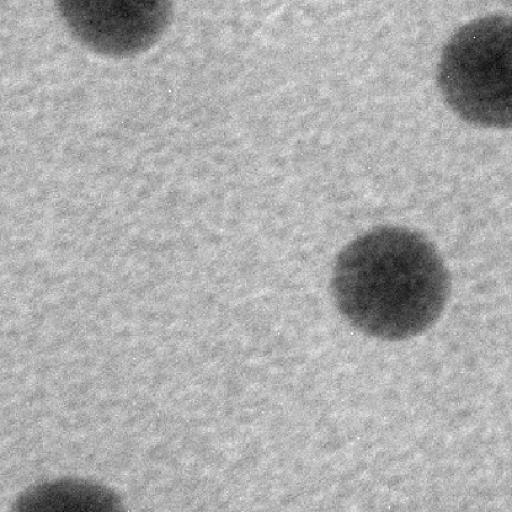Nanoparticles: (329, 222, 454, 342), (417, 11, 512, 138), (55, 0, 186, 57), (2, 471, 126, 512)
